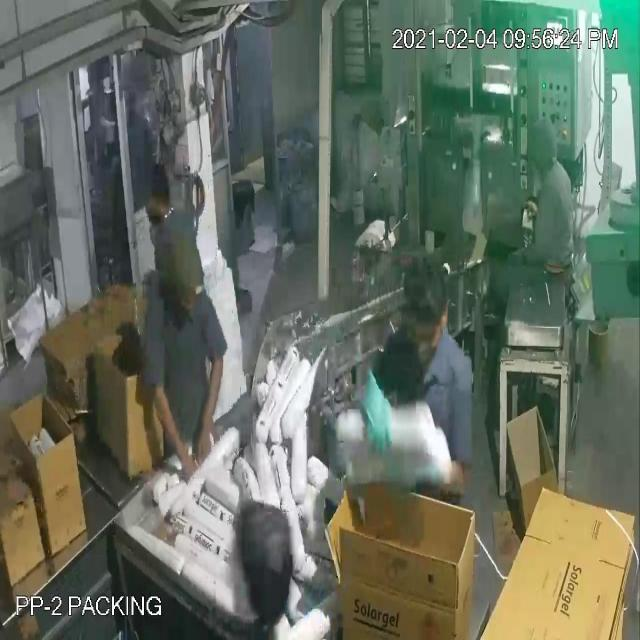No_Gloves: (44, 114, 380, 422)
